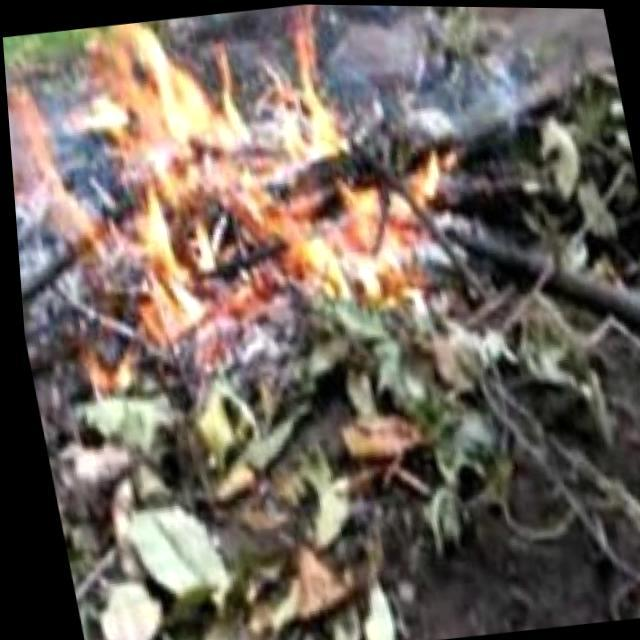fire: (0, 0, 448, 348)
